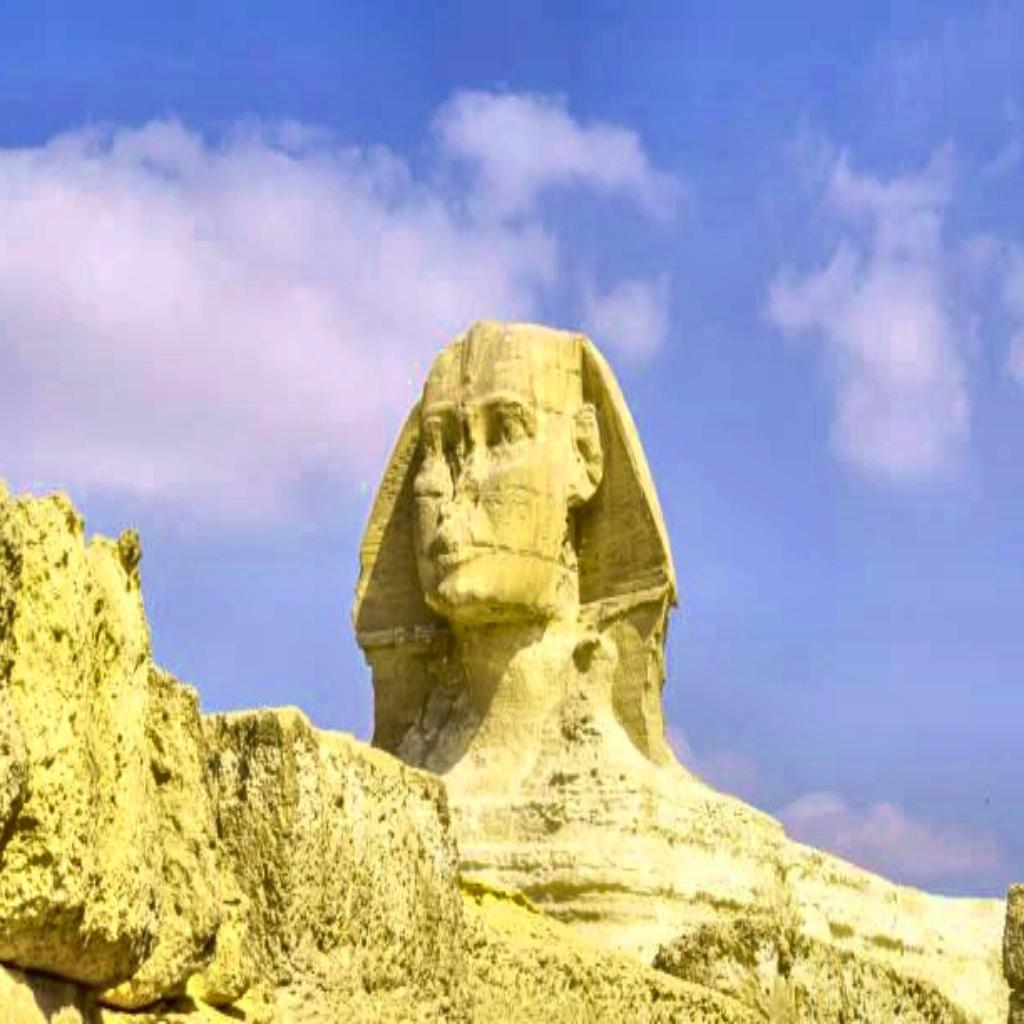Sphinx: (352, 316, 1022, 1022), (352, 314, 684, 803)
